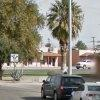Palm tree: (44, 3, 82, 64)
